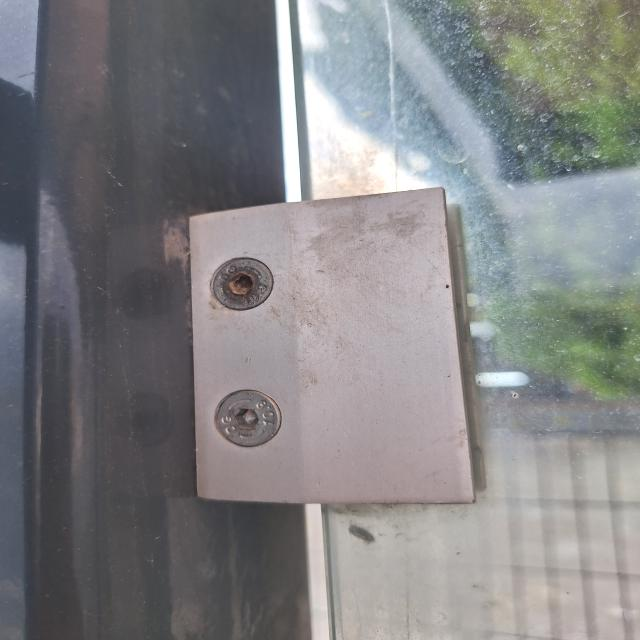Hex Socket Allen: (202, 390, 286, 448), (206, 258, 280, 308)
